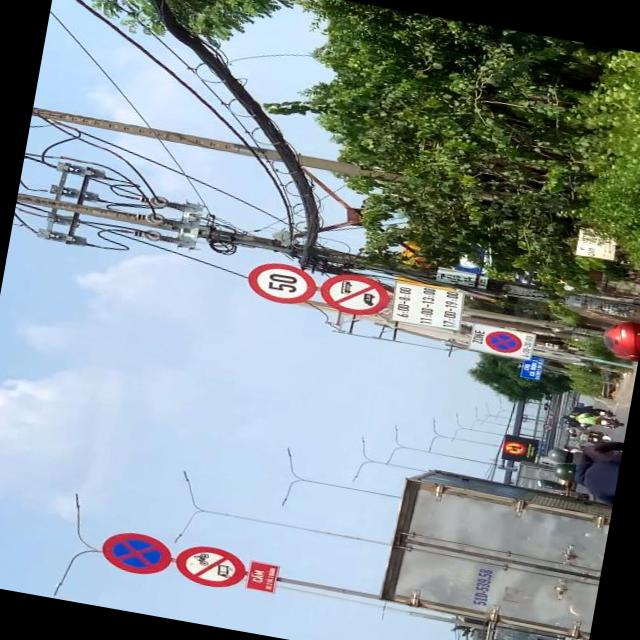P-104: (172, 542, 251, 592)
P-127: (246, 258, 318, 307)
P-130: (98, 526, 176, 578)
